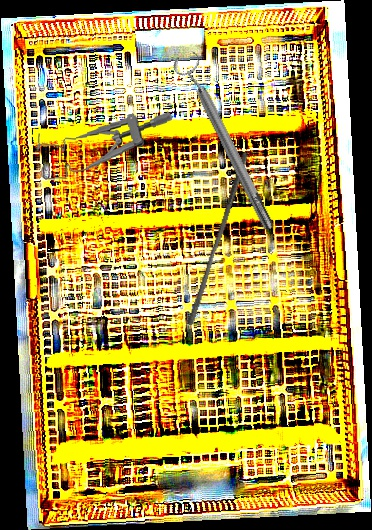Fixation Ring: (169, 48, 283, 237)
Pusher: (186, 149, 249, 328)
Speculum: (32, 110, 178, 181)
